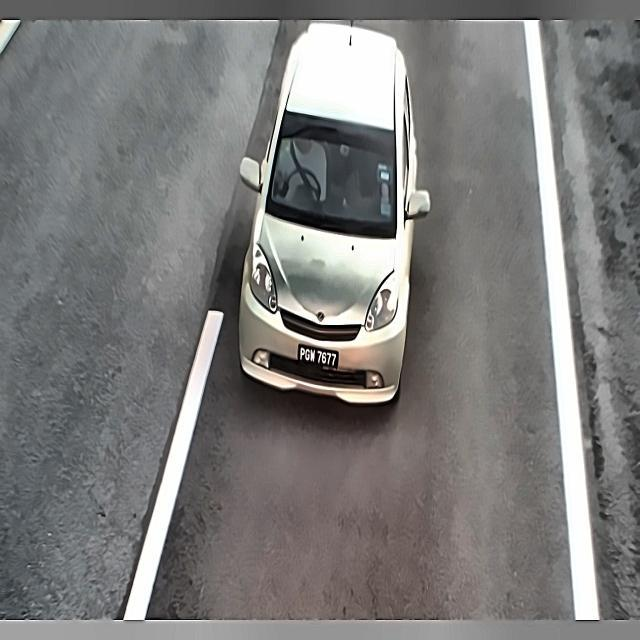car: (288, 334, 349, 381)
